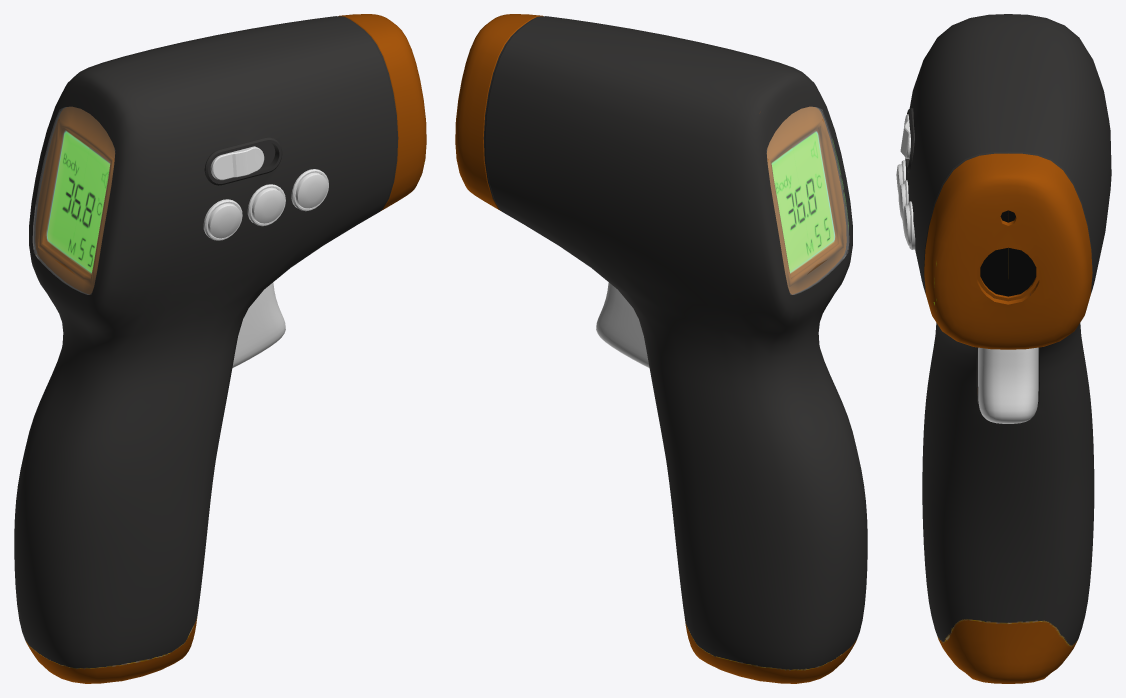
3 renders of one model, left to right at view 1: azimuth 30°, elevation 25°; view 2: azimuth 150°, elevation 25°; view 3: azimuth 270°, elevation 25°, orthographic. The views are drawn at different scales.
Visible parts, largest first — view 1: object 3, glass_1, object 2; view 2: object 3, glass_1, object 2; view 3: object 3, object 2.
Boxes of the visible parts, x1,y1,x2,y2 form: object 3: (14,14,426,683); glass_1: (33,107,114,294); object 2: (203,146,328,367); object 3: (455,14,867,683); glass_1: (767,107,848,294); object 2: (596,282,649,367); object 3: (905,14,1111,683); object 2: (896,114,1038,423).
Bounding box in the file's own units: 91.97 × 138 × 42.26.
Materials: 3 (1 with a texture image).
